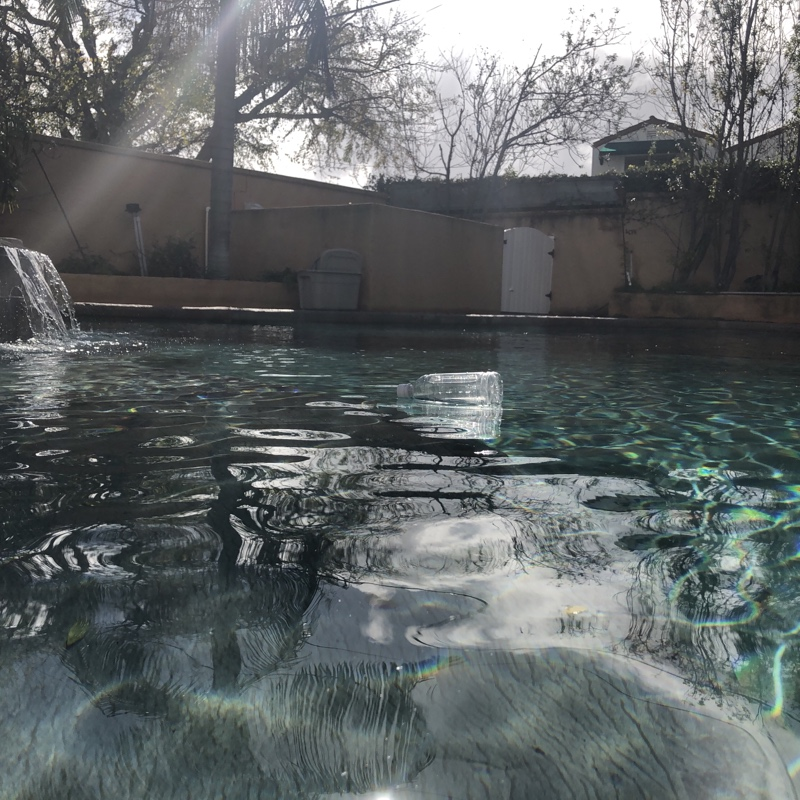Plastic Bottle: (393, 366, 504, 414)
